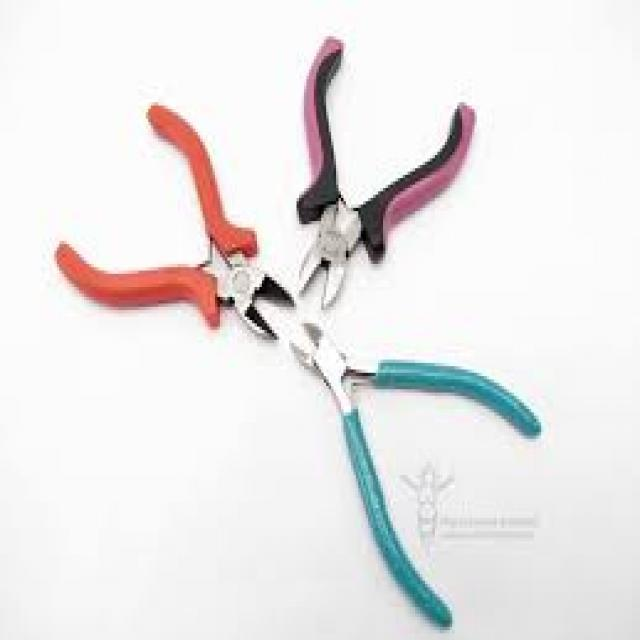pliers: (284, 312, 562, 640), (48, 95, 298, 348), (292, 27, 484, 308)
